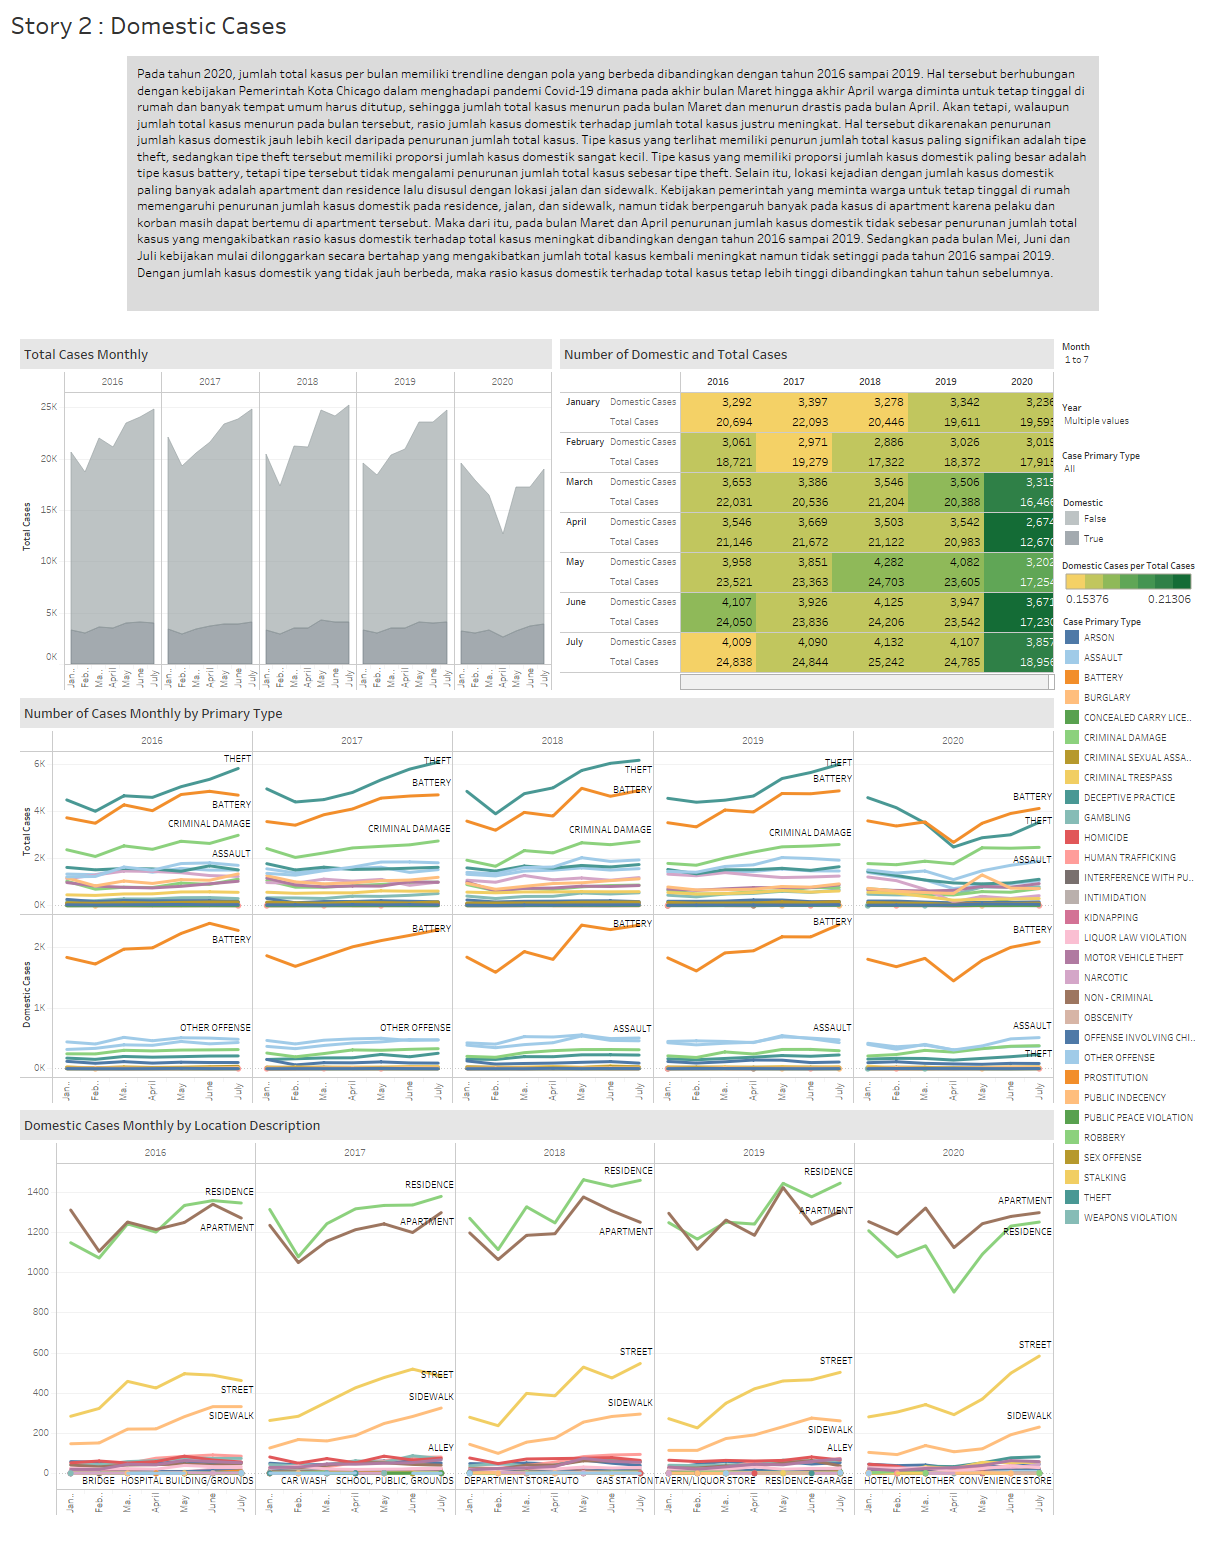

The page's visual inventory and layout, read from the dashboard file:
{"tool":"tableau","page":{"name":"Domestic Cases","canvas":[1200,1200],"ordinal":0},"visuals":[{"type":"worksheet","box":[0,0,1200,1200]},{"type":"worksheet","param":"horz","box":[8,8,1184,1184]},{"type":"worksheet","box":[8,8,1042,1184]},{"type":"worksheet","title":"Total Cases Monthly by Domestic Cases","mark":"Area","rows":["duplicate_sign"],"cols":["date","date"],"box":[8,8,540,358.9]},{"type":"worksheet","title":"Domestic, Total Cases, & Ratio","mark":"Square","rows":["date"],"cols":["date"],"box":[548,8,502,358.9]},{"type":"worksheet","box":[1050,8,142,1184]},{"type":"worksheet","param":"vert","box":[1050,8,142,273.9]},{"type":"worksheet","title":"Total Cases Monthly by Domestic Cases","mark":"Area","rows":["duplicate_sign"],"cols":["date","date"],"param":"[federated.02uvfn11l44j1b16vrfda0fwkby9].[none:month:qk]","box":[1050,8,142,61]},{"type":"worksheet","title":"Total Cases Monthly by Domestic Cases","mark":"Area","rows":["duplicate_sign"],"cols":["date","date"],"param":"[federated.02uvfn11l44j1b16vrfda0fwkby9].[none:year:ok]","box":[1050,69,142,48]},{"type":"worksheet","title":"Domestic & Total Cases by Primary Type","mark":"Automatic","rows":["duplicate_sign","Domestic (copy)_534239524397191169"],"cols":["date","date"],"param":"[federated.02uvfn11l44j1b16vrfda0fwkby9].[none:primary_type_clean:nk]","box":[1050,117,142,46]},{"type":"worksheet","title":"Total Cases Monthly by Domestic Cases","mark":"Area","rows":["duplicate_sign"],"cols":["date","date"],"param":"[federated.02uvfn11l44j1b16vrfda0fwkby9].[none:domestic:nk]","box":[1050,163,142,61]},{"type":"worksheet","title":"Domestic, Total Cases, & Ratio","mark":"Square","rows":["date"],"cols":["date"],"param":"[federated.02uvfn11l44j1b16vrfda0fwkby9].[avg:Domestic (copy)_534239524397191169","box":[1050,224,142,57.9]},{"type":"worksheet","title":"Domestic & Total Cases by Primary Type","mark":"Automatic","rows":["duplicate_sign","Domestic (copy)_534239524397191169"],"cols":["date","date"],"param":"[federated.02uvfn11l44j1b16vrfda0fwkby9].[none:primary_type_clean:nk]","box":[1050,282,142,910]},{"type":"worksheet","title":"Domestic & Total Cases by Primary Type","mark":"Automatic","rows":["duplicate_sign","Domestic (copy)_534239524397191169"],"cols":["date","date"],"box":[8,366.9,1042,412.5]},{"type":"worksheet","title":"Domestic Cases by Location Description","mark":"Automatic","rows":["duplicate_sign"],"cols":["date","date"],"box":[8,779.5,1042,412.5]}]}

Visuals, with their boxes on the page's 1200x1200 design canvas (x1, y1, x2, y2). These are canvas units, not pixel positions in the 1225x1550 screenshot, which may show the page scaled, cropped or inside an application window:
worksheet: <bbox>0, 0, 1200, 1200</bbox>
worksheet: <bbox>8, 8, 1192, 1192</bbox>
worksheet: <bbox>8, 8, 1050, 1192</bbox>
"Total Cases Monthly by Domestic Cases" worksheet (Area marks): <bbox>8, 8, 548, 367</bbox>
"Domestic, Total Cases, & Ratio" worksheet (Square marks): <bbox>548, 8, 1050, 367</bbox>
worksheet: <bbox>1050, 8, 1192, 1192</bbox>
worksheet: <bbox>1050, 8, 1192, 282</bbox>
"Total Cases Monthly by Domestic Cases" worksheet (Area marks): <bbox>1050, 8, 1192, 69</bbox>
"Total Cases Monthly by Domestic Cases" worksheet (Area marks): <bbox>1050, 69, 1192, 117</bbox>
"Domestic & Total Cases by Primary Type" worksheet: <bbox>1050, 117, 1192, 163</bbox>
"Total Cases Monthly by Domestic Cases" worksheet (Area marks): <bbox>1050, 163, 1192, 224</bbox>
"Domestic, Total Cases, & Ratio" worksheet (Square marks): <bbox>1050, 224, 1192, 282</bbox>
"Domestic & Total Cases by Primary Type" worksheet: <bbox>1050, 282, 1192, 1192</bbox>
"Domestic & Total Cases by Primary Type" worksheet: <bbox>8, 367, 1050, 779</bbox>
"Domestic Cases by Location Description" worksheet: <bbox>8, 780, 1050, 1192</bbox>
